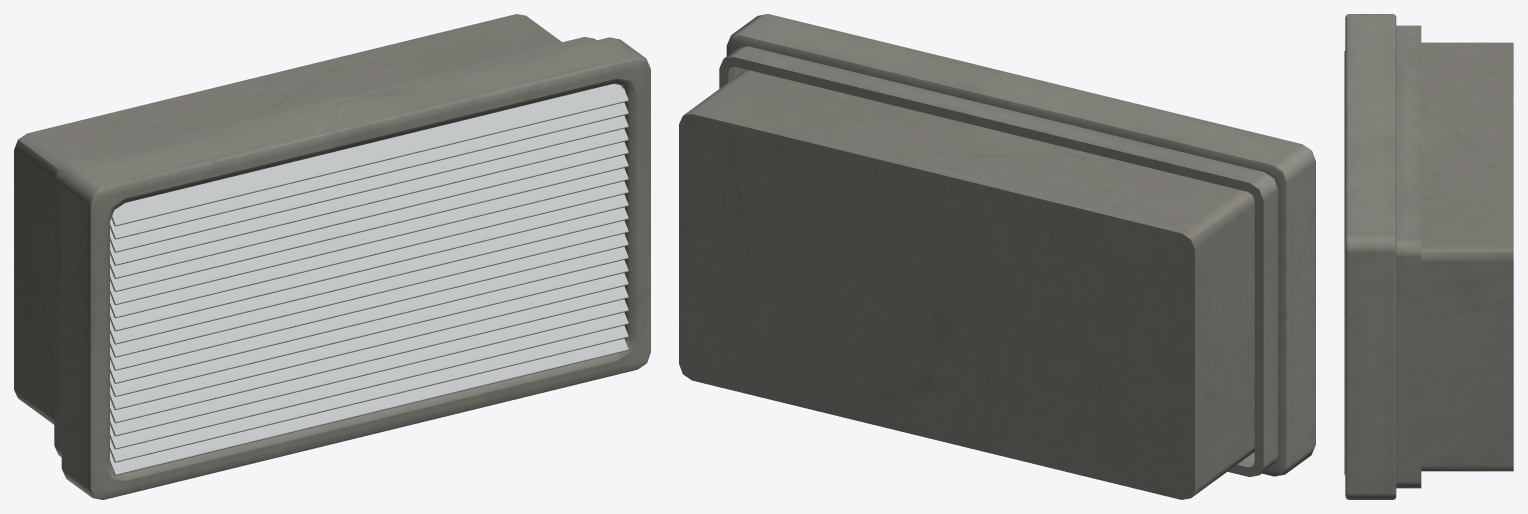
Rendered from side_cap.gltf.
The picture shows the model from 3 angles, left to right: view 1: azimuth 30°, elevation 25°; view 2: azimuth 150°, elevation 25°; view 3: azimuth 270°, elevation 25°; orthographic projection. The views are drawn at different scales.
Visible parts, largest first — view 1: side_cap; view 2: side_cap; view 3: side_cap.
Boxes of the visible parts, x1,y1,x2,y2 form: side_cap: (14, 14, 650, 499); side_cap: (679, 14, 1315, 499); side_cap: (1344, 14, 1513, 499).
Size of the model in its own units: 0.8038 by 0.4276 by 0.2478.
1 material, 1 textured.
